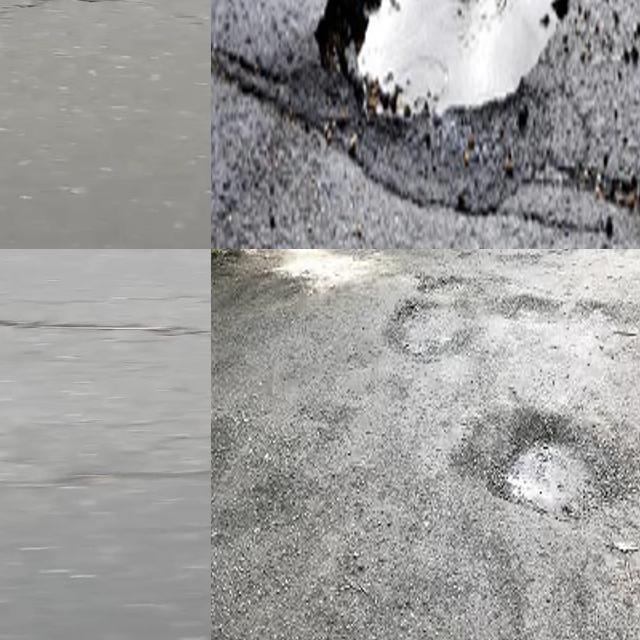Lubang: (329, 0, 572, 120), (487, 424, 616, 521)
Melintang: (0, 307, 211, 352)
